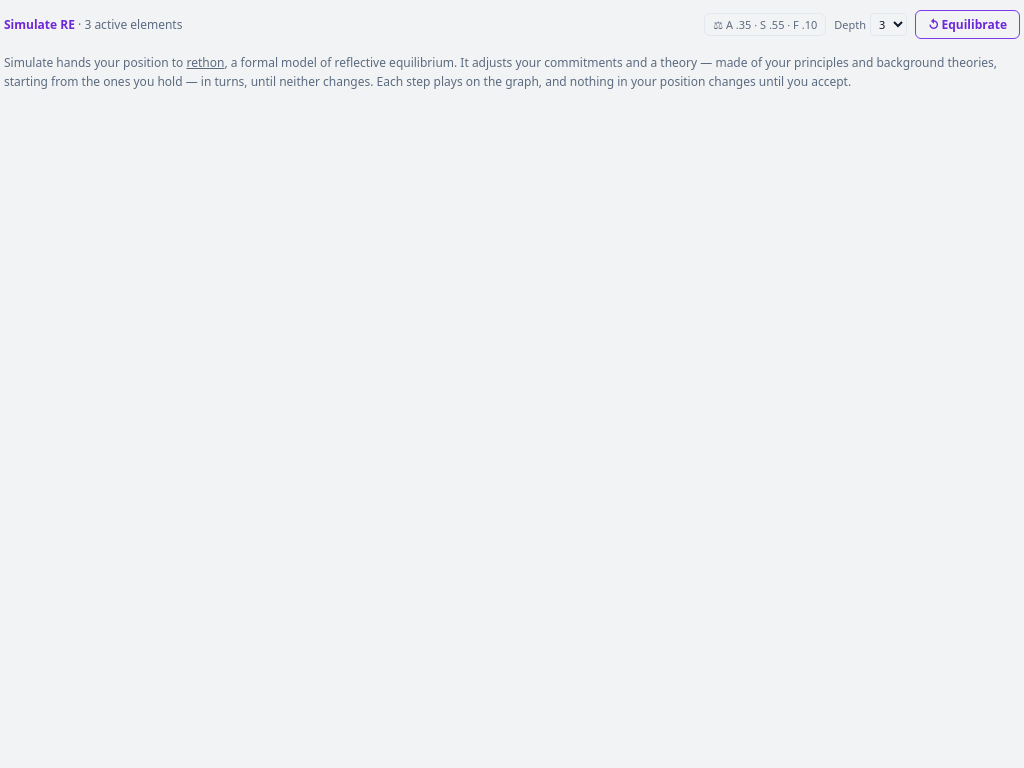
Test case: playing a result on the graph › shows a step on the graph when it is picked
Click the button "↺ Equilibrate": x=968, y=24 [915,10,1020,39]
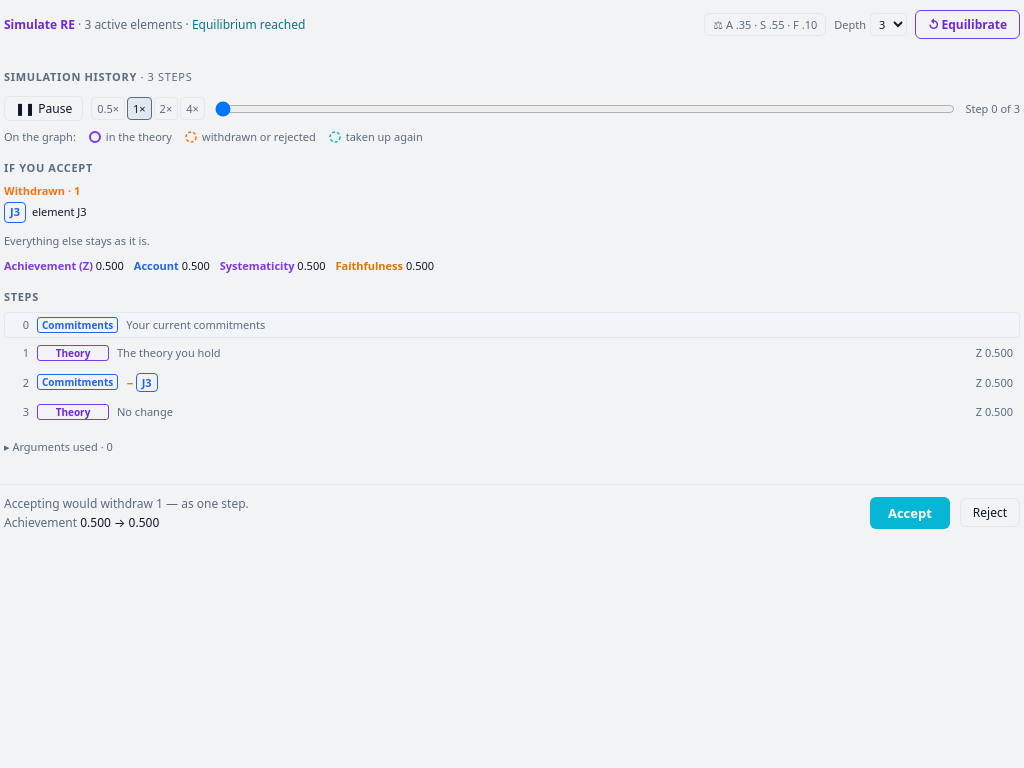
Click the button with aria-label "show step 2 on the graph": x=78, y=382 [4,368,1020,396]
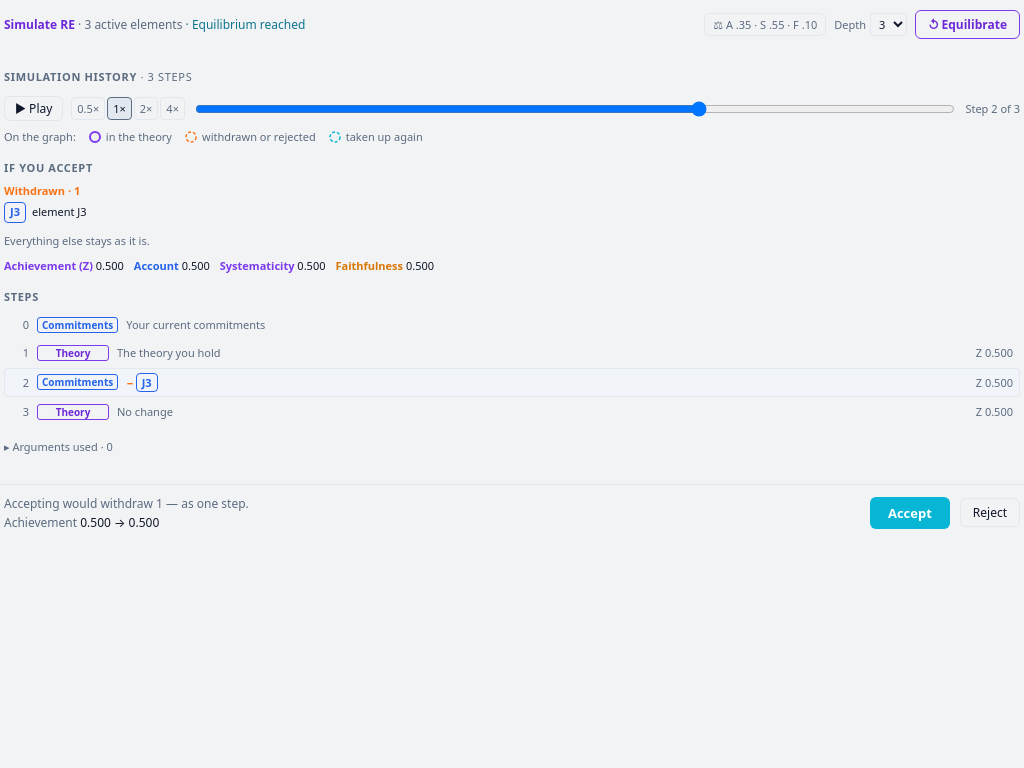
Expected: the text "Step 2 of 3" is shown, [965,101,1020,116]
